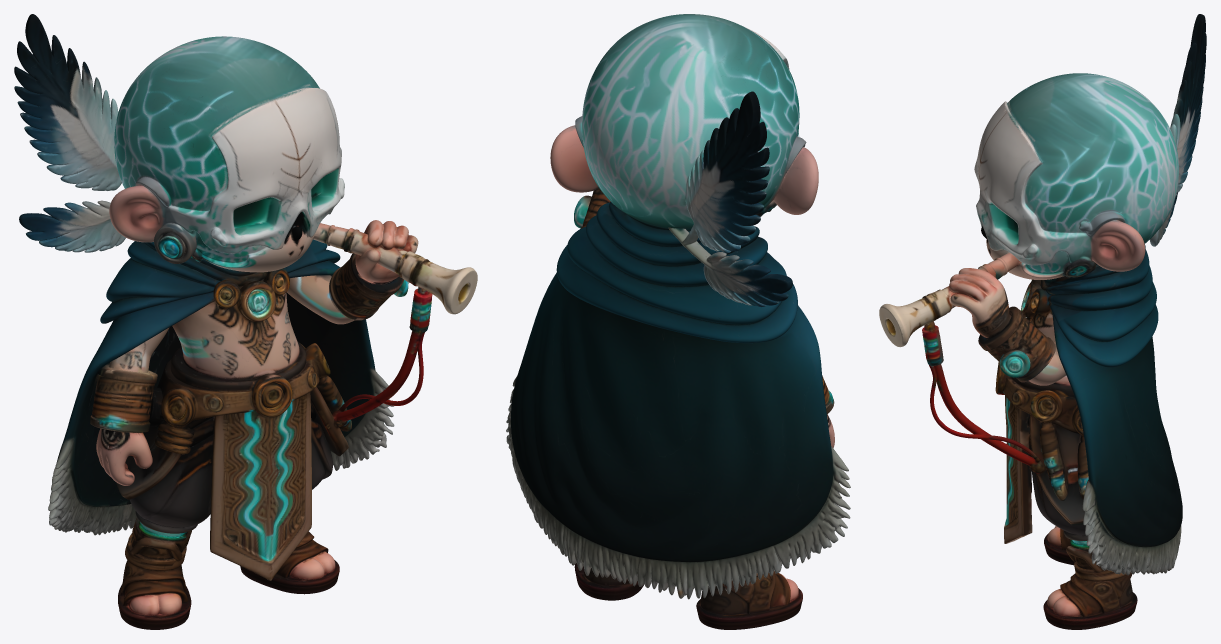
File: level-6.glb
3 views of the same model, side by side, from view 1: azimuth 30°, elevation 25°; view 2: azimuth 150°, elevation 25°; view 3: azimuth 270°, elevation 25° (orthographic). The views are drawn at different scales.
Parts seen in each view (by area): view 1: texture_pbr_v128; view 2: texture_pbr_v128; view 3: texture_pbr_v128.
Boxes of the visible parts, left/top/right/bottom form: texture_pbr_v128: left=14, top=14, right=477, bottom=629; texture_pbr_v128: left=506, top=14, right=850, bottom=629; texture_pbr_v128: left=879, top=14, right=1206, bottom=629.
Bounding box in the file's own units: 0.6038 × 0.9601 × 0.5549.
Materials: 1 (1 with a texture image).
